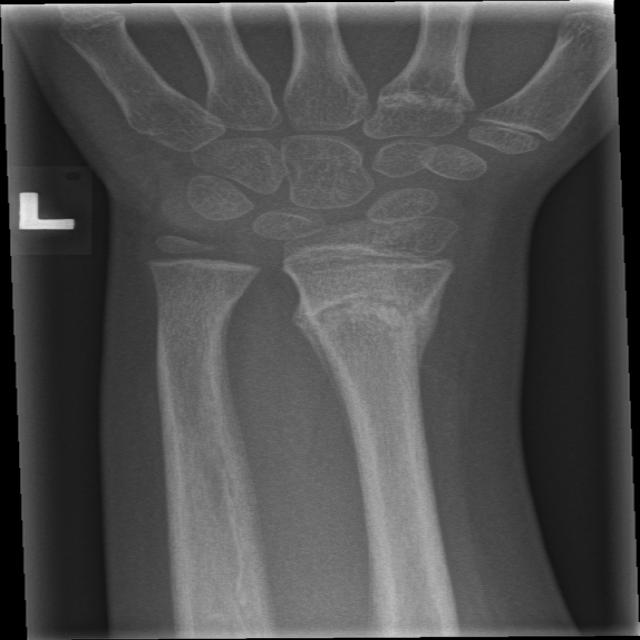radius fracture: (268, 283, 480, 362)
